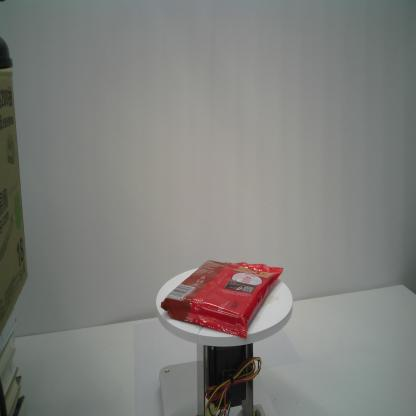Dessert: (160, 259, 284, 340)
